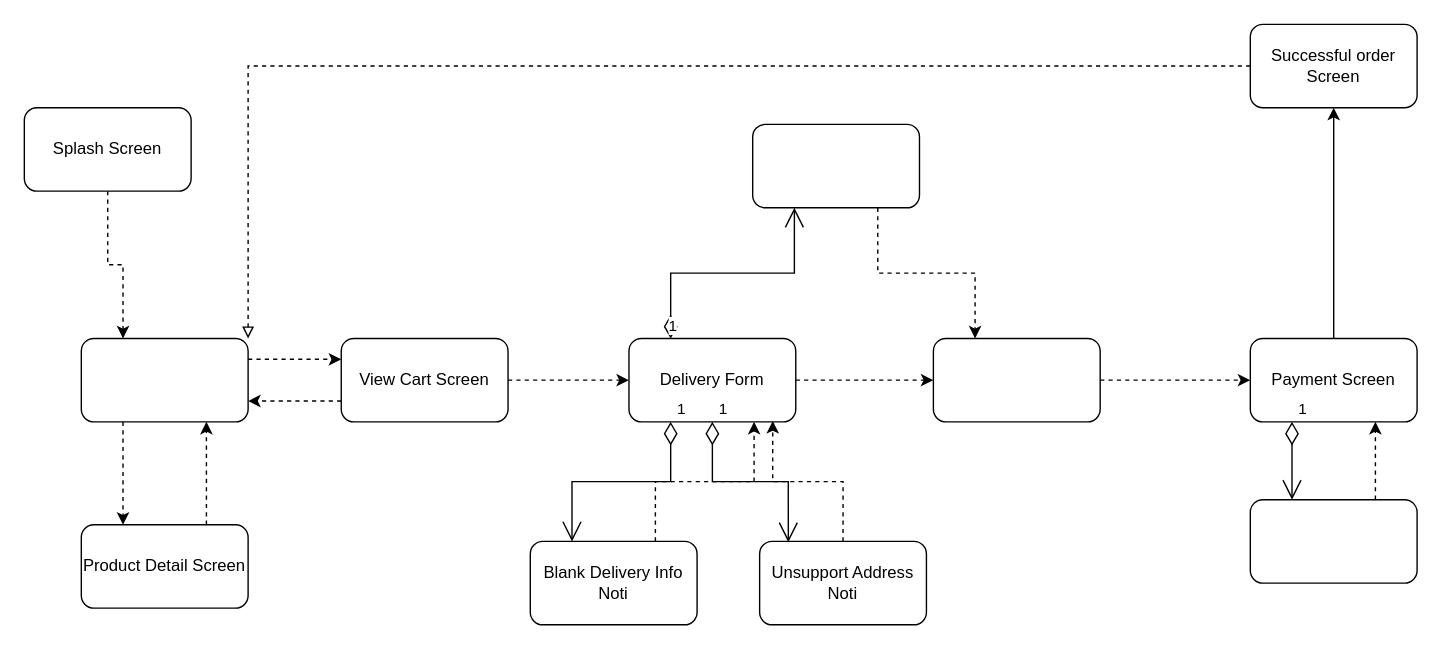
Some shapes in this 1441 by 649 pixel diagram are drawn without their labels. Each missing label, with the centre of its shape:
Home Screen: [164,379]
Invalid Card Info Noti: [1333,540]
Invoice Screen: [1016,379]
Rush Delivery Form: [835,165]
